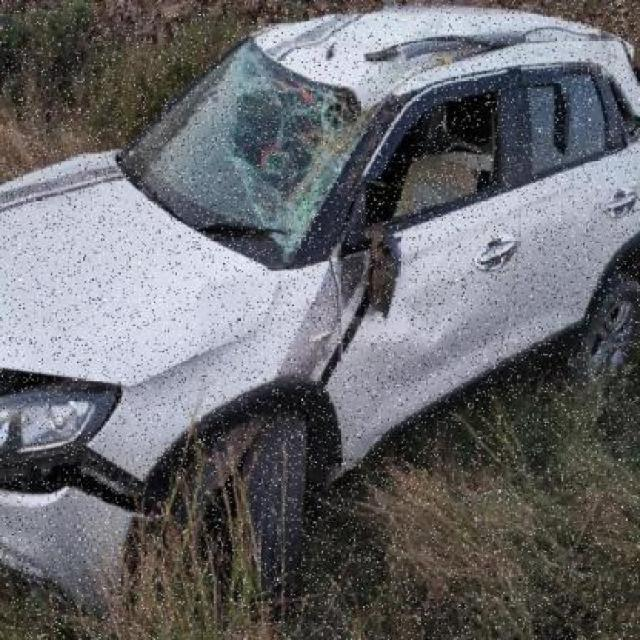Front-Windscreen-Damage: (122, 56, 370, 252)
Headlight-Damage: (0, 348, 134, 480)
doorouter-dent: (339, 194, 518, 460)
roof-dent: (267, 3, 640, 97)
